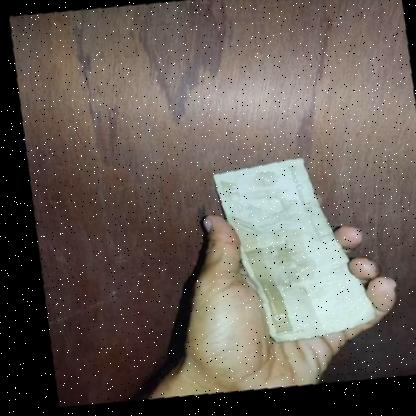five-back-vef: (207, 155, 372, 350)
